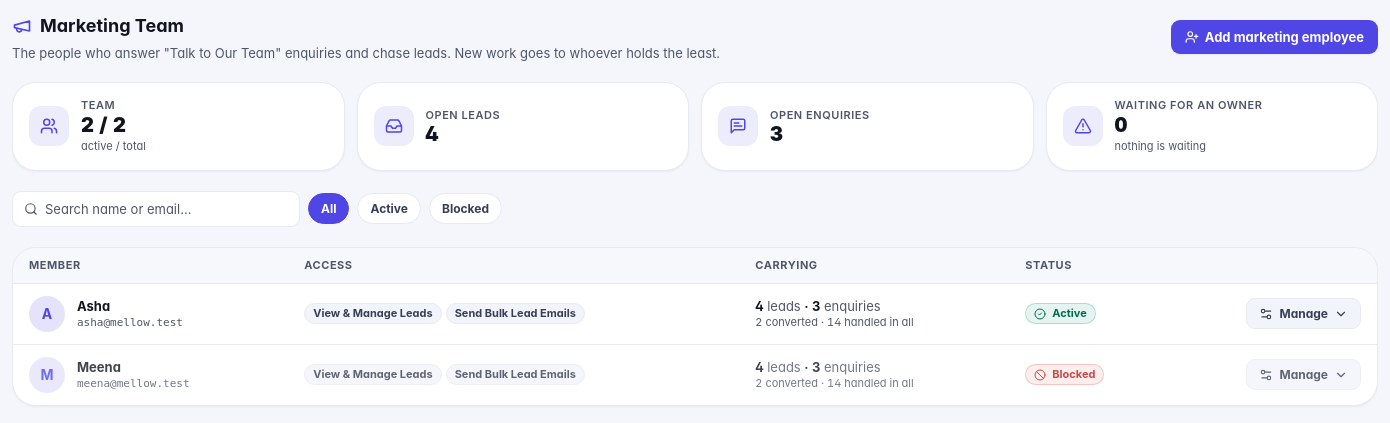
the team view › filters by status and by search, and says when nobody matches
Click the button "Blocked": (466, 209) [429, 193, 502, 224]
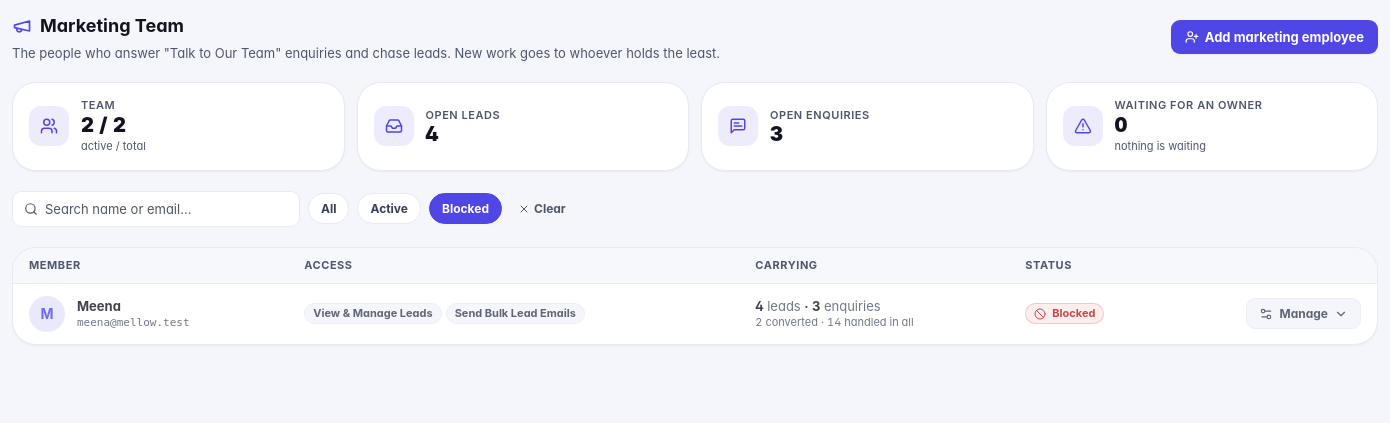
Expected: the text "Meena" is shown, [77, 298, 121, 314]
Result: the number of rows with test id "team-row" is 1 at [13, 283, 1377, 344]
In the search field named "Search the marketing team": (156, 209) [12, 191, 300, 227], type "zzz"
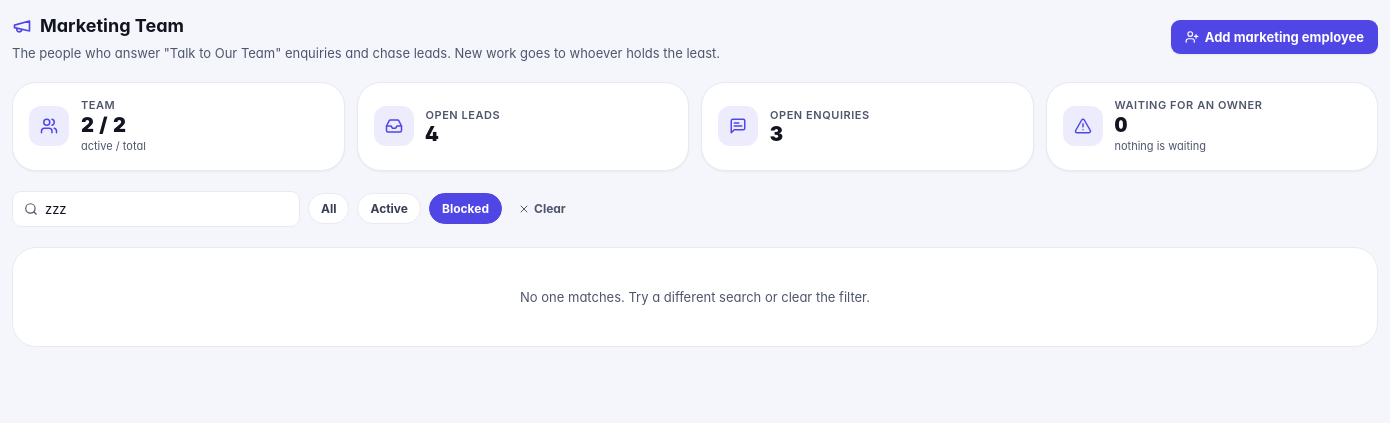
Result: the text "No one matches. Try a different search or clear the filter." is shown at [12, 247, 1378, 347]
